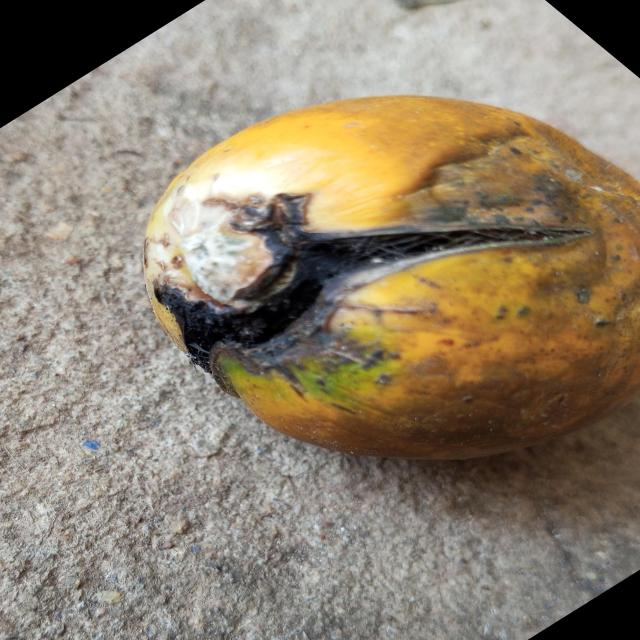damaged: (144, 96, 640, 459)
